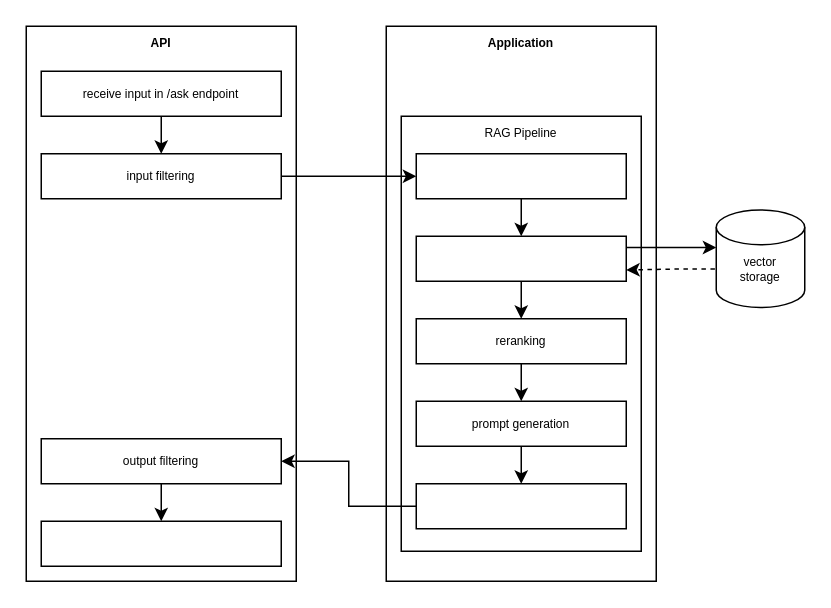
Some shapes in this 831 by 608 pixel diagram are drawn without their labels. Here are the shapes that lost their labels. From the top down, the box of each, then its label:
(415, 152, 626, 199): query expansion
(415, 235, 626, 281): context retrieval
(415, 482, 626, 529): get response from llm
(40, 520, 281, 566): send output to user
